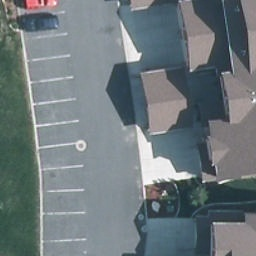car: (18, 17, 60, 32), (21, 0, 60, 9)
